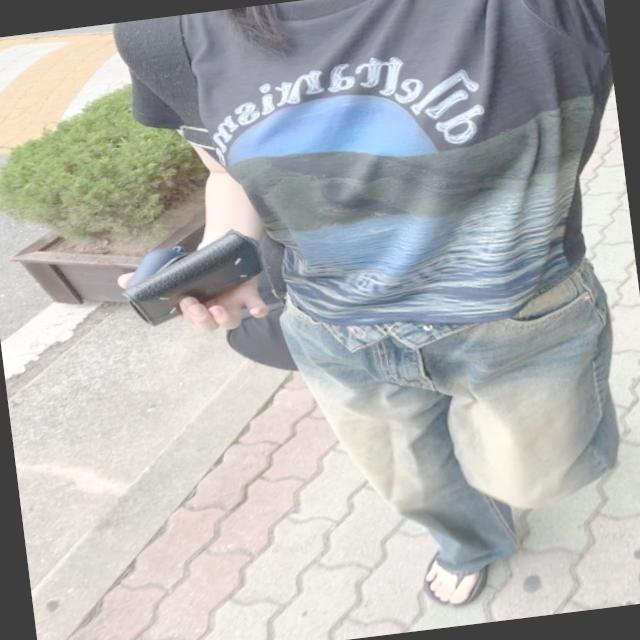denimpants: (278, 249, 640, 594)
shortsleeve: (110, 0, 638, 353)
